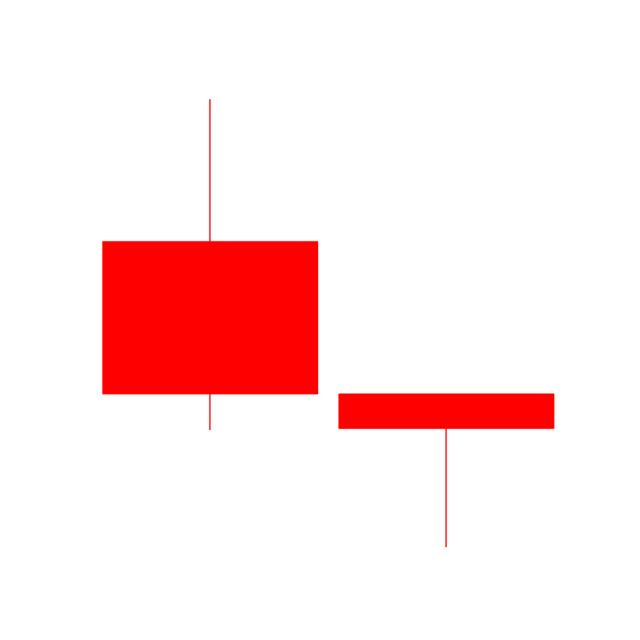Hanging Man: (336, 391, 558, 548)
Shooting Star: (101, 99, 320, 443)
